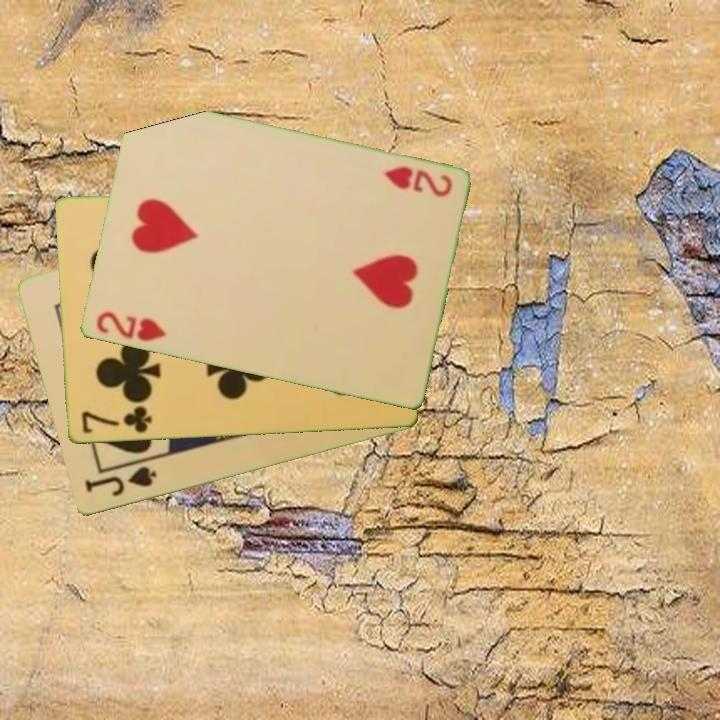2h: (380, 163, 455, 201), (92, 308, 169, 345)
7c: (77, 402, 154, 437)
Js: (81, 463, 159, 500)
